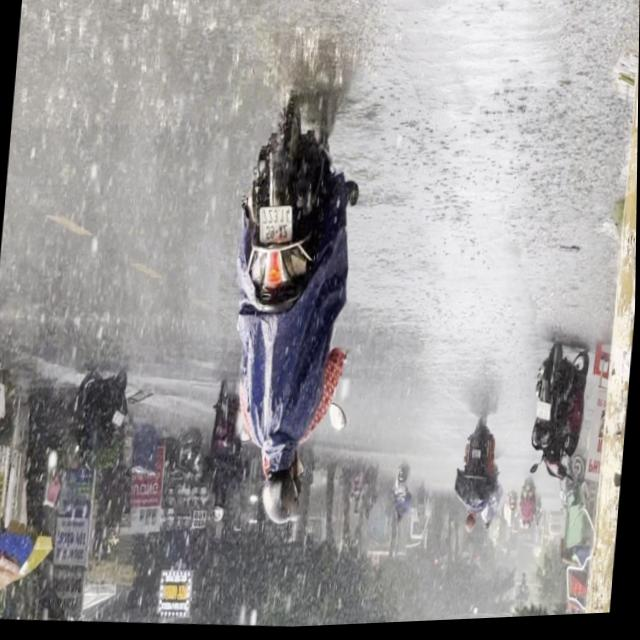helmet: (259, 456, 305, 531)
licenseplate: (209, 98, 369, 540)
nohelmet: (257, 207, 293, 248), (536, 408, 552, 427)
